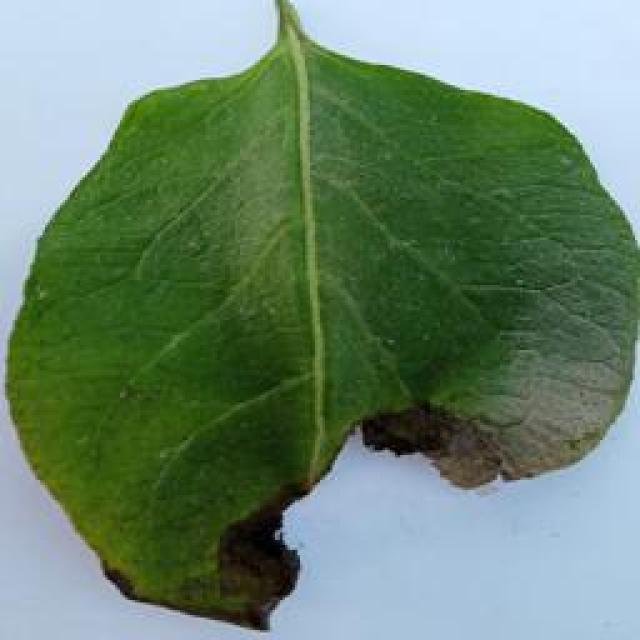Potato_Late_Blight: (8, 2, 628, 632)
